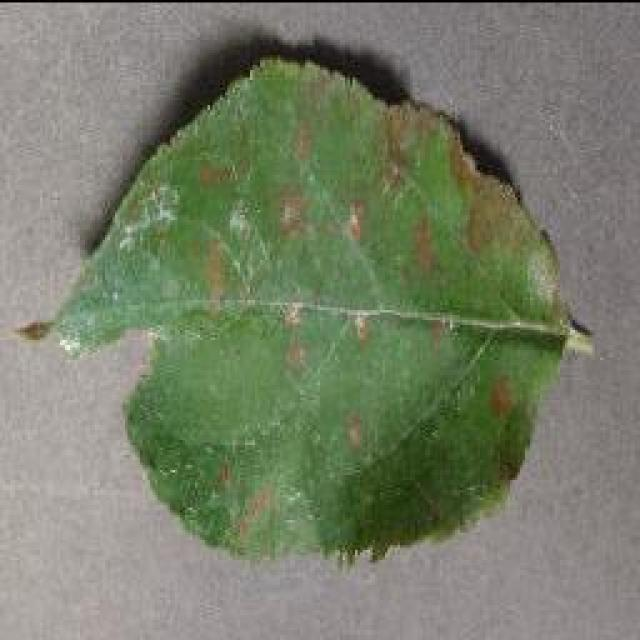apple rust disease: (28, 48, 592, 568)
